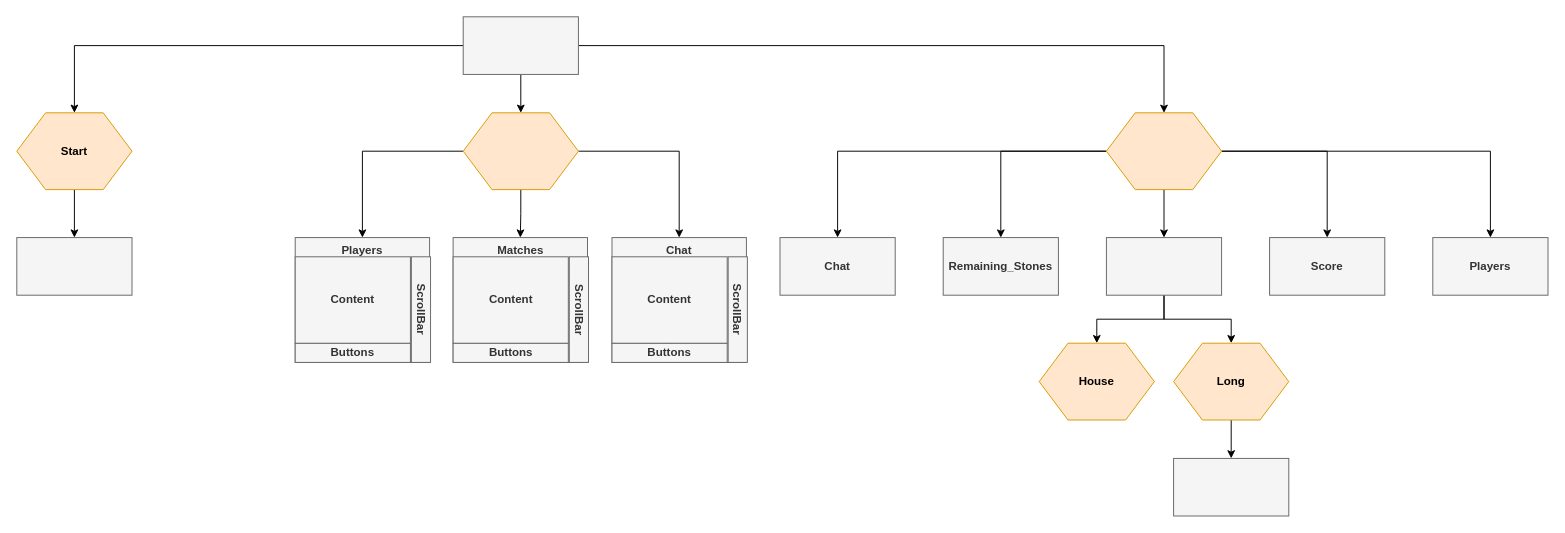
This 1565x533 diagram has some shape labels left out. Here are the shapes that lost their labels. From the top down, the box of each, then its label:
(462, 16, 578, 74): Screen
(462, 112, 578, 190): Lobby
(1105, 112, 1222, 190): Game
(16, 237, 132, 295): Select_Room
(1105, 237, 1222, 295): Ice
(1173, 457, 1289, 516): Long_House
